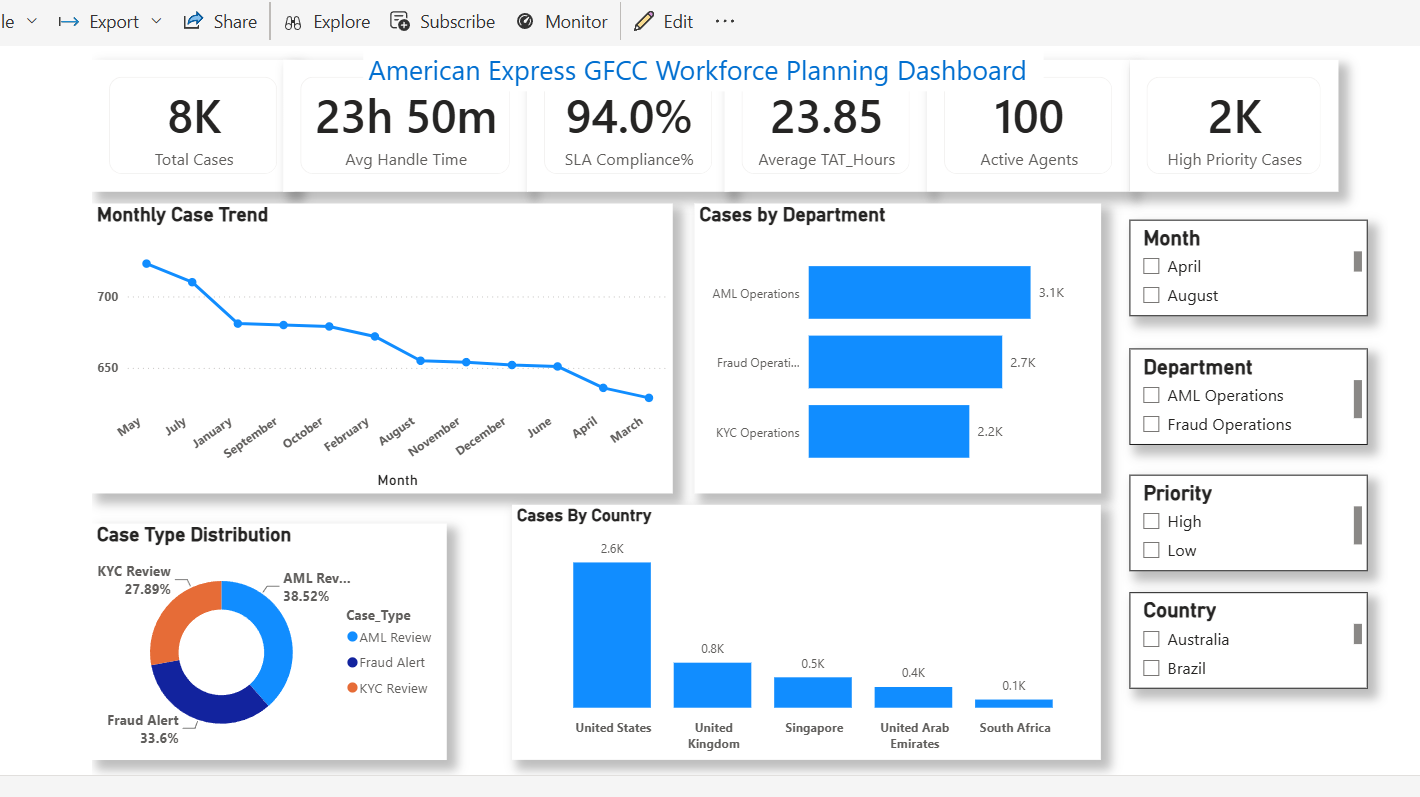

The page's visual inventory and layout, read from the dashboard file:
{"tool":"powerbi","page":{"name":"Page 1","canvas":[1280,720],"ordinal":0},"visuals":[{"type":"cardVisual","fields":{"Data":["GFCC_Workforce_Planning_Dataset.Total Cases"]},"box":[0,13.3,200,130],"z":0},{"type":"cardVisual","fields":{"Data":["GFCC_Workforce_Planning_Dataset.Average Handle Time"]},"box":[188.3,13.3,241.7,130],"z":1},{"type":"cardVisual","fields":{"Data":["GFCC_Workforce_Planning_Dataset.SLA Compliance Test"]},"box":[430,13.3,200,130],"z":2},{"type":"cardVisual","fields":{"Data":["Avg(GFCC_Workforce_Planning_Dataset.TAT_Hours)"]},"box":[625,13.3,200,130],"z":5},{"type":"cardVisual","fields":{"Data":["GFCC_Workforce_Planning_Dataset.Active Agents"]},"box":[825,13.3,200,130],"z":6},{"type":"cardVisual","fields":{"Data":["GFCC_Workforce_Planning_Dataset.High Priority Cases"]},"box":[1025,13.3,206.7,130],"z":7},{"type":"lineChart","title":"Monthly Case Trend","fields":{"Category":["GFCC_Workforce_Planning_Dataset.Month"],"Y":["GFCC_Workforce_Planning_Dataset.Total Cases"]},"box":[0,155,573.3,286.7],"z":8},{"type":"clusteredBarChart","title":"Cases by Department","fields":{"Category":["GFCC_Workforce_Planning_Dataset.Department"],"Y":["GFCC_Workforce_Planning_Dataset.Total Cases"]},"box":[595,155,401.7,286.7],"z":9},{"type":"donutChart","title":"Case Type Distribution","fields":{"Category":["GFCC_Workforce_Planning_Dataset.Case_Type"],"Y":["GFCC_Workforce_Planning_Dataset.Total Cases"]},"box":[0,471.7,350,233.3],"z":10},{"type":"clusteredColumnChart","title":"Cases By Country","fields":{"Category":["GFCC_Workforce_Planning_Dataset.Country"],"Y":["GFCC_Workforce_Planning_Dataset.Total Cases"]},"box":[415,453.3,581.7,251.7],"z":11},{"type":"slicer","fields":{"Values":["GFCC_Workforce_Planning_Dataset.Month"]},"box":[1025,171.7,235,95],"z":12},{"type":"slicer","fields":{"Values":["GFCC_Workforce_Planning_Dataset.Department"]},"box":[1025,298.3,235,95],"z":13},{"type":"slicer","fields":{"Values":["GFCC_Workforce_Planning_Dataset.Priority"]},"box":[1025,423.3,235,95],"z":14},{"type":"slicer","fields":{"Values":["GFCC_Workforce_Planning_Dataset.Country"]},"box":[1025,540,235,95],"z":15},{"type":"textbox","box":[268.3,0,671.7,45],"z":16}]}

Visuals, with their boxes on the page's 1280x720 design canvas (x1, y1, x2, y2). These are canvas units, not pixel positions in the 1420x797 screenshot, which may show the page scaled, cropped or inside an application window:
cardVisual - GFCC_Workforce_Planning_Dataset.Total Cases: x1=0, y1=13, x2=200, y2=143
cardVisual - GFCC_Workforce_Planning_Dataset.Average Handle Time: x1=188, y1=13, x2=430, y2=143
cardVisual - GFCC_Workforce_Planning_Dataset.SLA Compliance Test: x1=430, y1=13, x2=630, y2=143
cardVisual - Avg(GFCC_Workforce_Planning_Dataset.TAT_Hours): x1=625, y1=13, x2=825, y2=143
cardVisual - GFCC_Workforce_Planning_Dataset.Active Agents: x1=825, y1=13, x2=1025, y2=143
cardVisual - GFCC_Workforce_Planning_Dataset.High Priority Cases: x1=1025, y1=13, x2=1232, y2=143
"Monthly Case Trend" lineChart: x1=0, y1=155, x2=573, y2=442
"Cases by Department" clusteredBarChart: x1=595, y1=155, x2=997, y2=442
"Case Type Distribution" donutChart: x1=0, y1=472, x2=350, y2=705
"Cases By Country" clusteredColumnChart: x1=415, y1=453, x2=997, y2=705
slicer - GFCC_Workforce_Planning_Dataset.Month: x1=1025, y1=172, x2=1260, y2=267
slicer - GFCC_Workforce_Planning_Dataset.Department: x1=1025, y1=298, x2=1260, y2=393
slicer - GFCC_Workforce_Planning_Dataset.Priority: x1=1025, y1=423, x2=1260, y2=518
slicer - GFCC_Workforce_Planning_Dataset.Country: x1=1025, y1=540, x2=1260, y2=635
textbox: x1=268, y1=0, x2=940, y2=45
